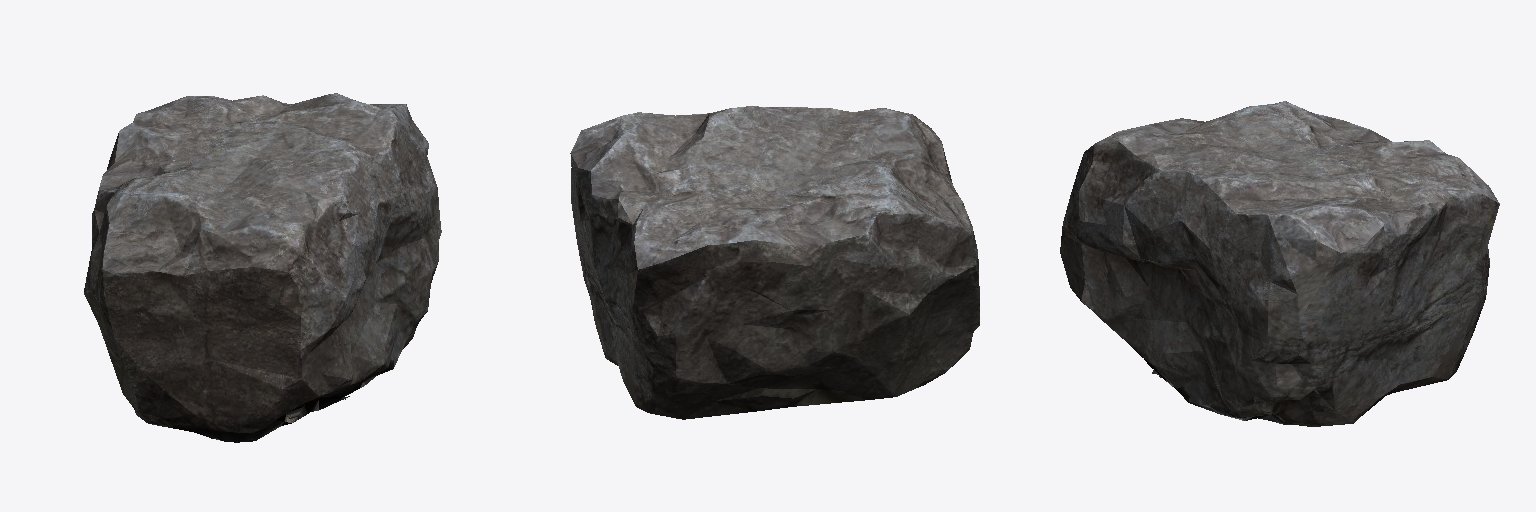
The picture shows the model from 3 angles: view 1: azimuth 30°, elevation 25°; view 2: azimuth 150°, elevation 25°; view 3: azimuth 270°, elevation 25°; orthographic projection.
Visible parts, largest first — view 1: stone; view 2: stone; view 3: stone.
Part boxes in pixels (x1,y1,x2,y2): stone: (84, 93, 441, 442); stone: (570, 106, 979, 419); stone: (1060, 101, 1499, 426).
Size of the model in its own units: 28.74 by 16.59 by 30.09.
1 materials, 1 textured.